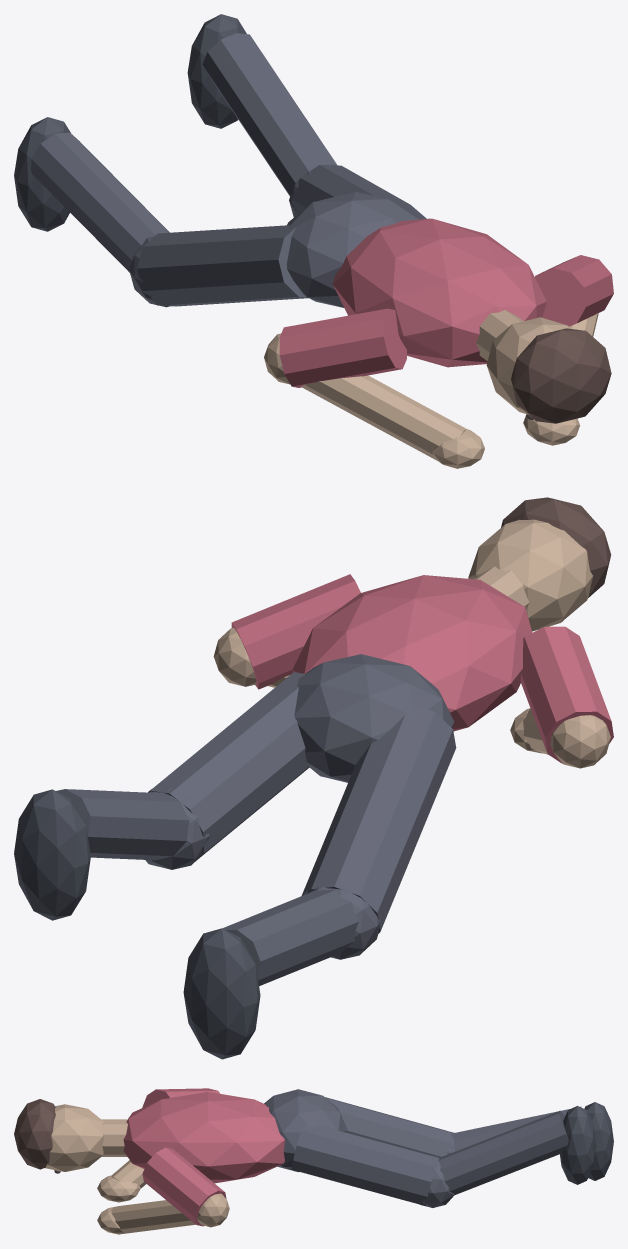
3 views of the same model, one above another, from view 1: azimuth 30°, elevation 25°; view 2: azimuth 150°, elevation 25°; view 3: azimuth 270°, elevation 25° (orthographic). The views are drawn at different scales.
Visible parts, largest first — view 1: world; view 2: world; view 3: world.
Boxes of the visible parts, x1,y1,x2,y2 form: world: (14,14,613,468); world: (14,497,613,1059); world: (14,1088,613,1234).
Bounding box in the file's own units: 0.93 × 0.4905 × 2.06.
